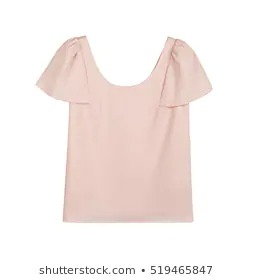C_short blouse: (36, 30, 217, 230)
